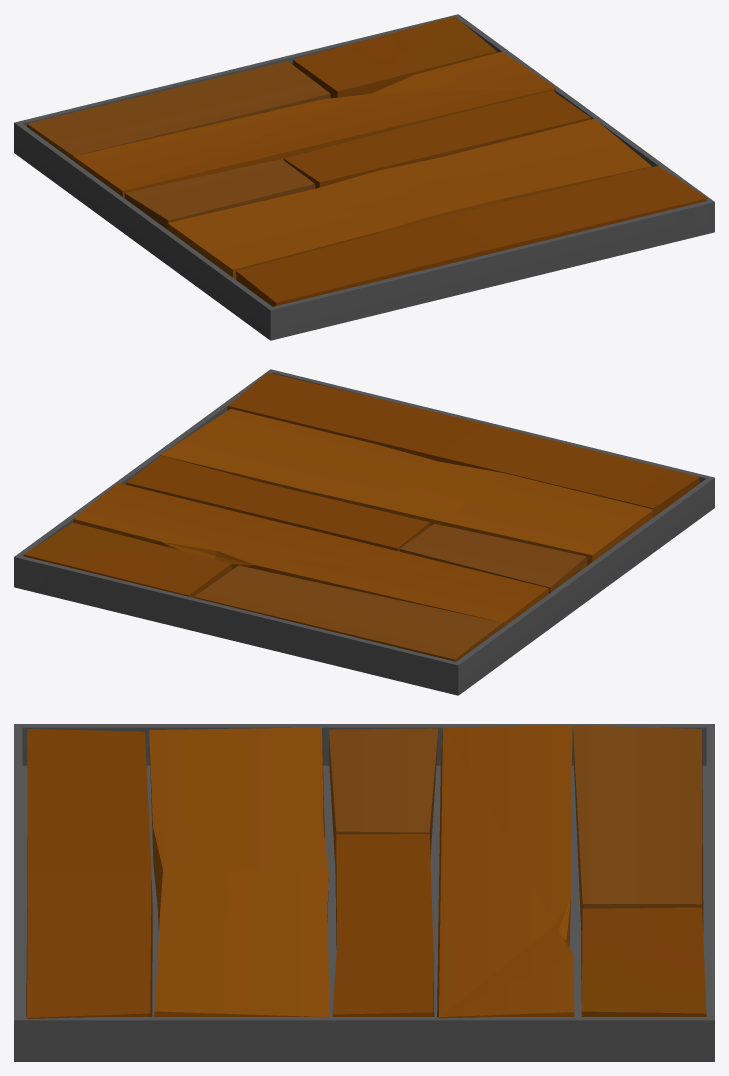
File: Wood Plank Floor 2x2M.glb
3 renders of one model, top to bottom at view 1: azimuth 30°, elevation 25°; view 2: azimuth 150°, elevation 25°; view 3: azimuth 270°, elevation 25°, orthographic. The views are drawn at different scales.
Visible parts, largest first — view 1: Floor_2x2; view 2: Floor_2x2; view 3: Floor_2x2.
Part boxes in pixels (x1,y1,x2,y2): Floor_2x2: (14, 14, 714, 340); Floor_2x2: (14, 369, 714, 695); Floor_2x2: (14, 724, 714, 1061).
Size of what is drawn, in the model's own units: 2 by 0.1431 by 2.
Materials: 1 (1 with a texture image).
